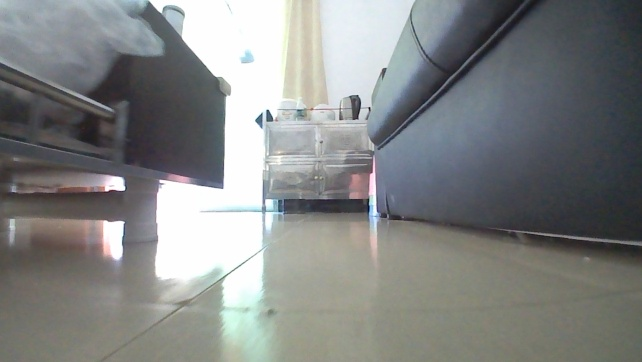sofa1: (363, 0, 641, 246)
tea_table1: (0, 0, 239, 248)
